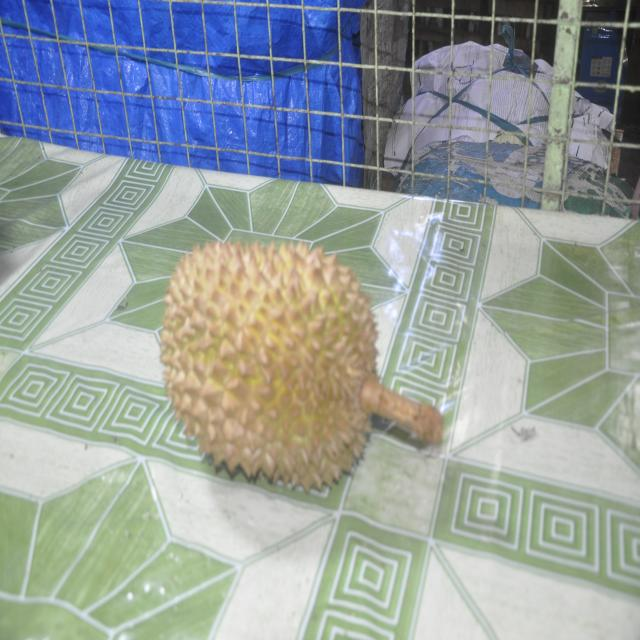mature: (161, 242, 442, 491)
